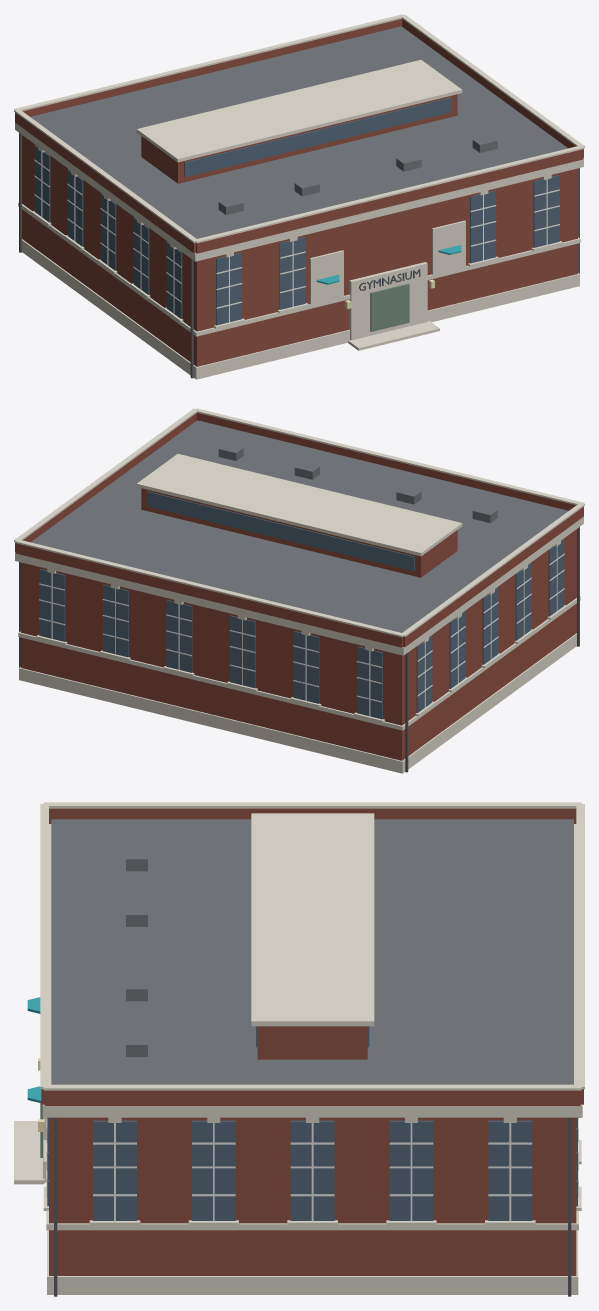
Rendered from birchwood_hall.glb.
3 views of the same model, one above another, from view 1: azimuth 30°, elevation 25°; view 2: azimuth 150°, elevation 25°; view 3: azimuth 270°, elevation 25° (orthographic). The views are drawn at different scales.
Parts seen in each view (by area): view 1: birchwood_hall_export; view 2: birchwood_hall_export; view 3: birchwood_hall_export.
Part boxes in pixels (left/top/right/bottom): birchwood_hall_export: left=14, top=14, right=584, bottom=379; birchwood_hall_export: left=14, top=408, right=584, bottom=773; birchwood_hall_export: left=14, top=802, right=584, bottom=1296.
Size of the model in its own units: 30.8 by 11.93 by 26.
